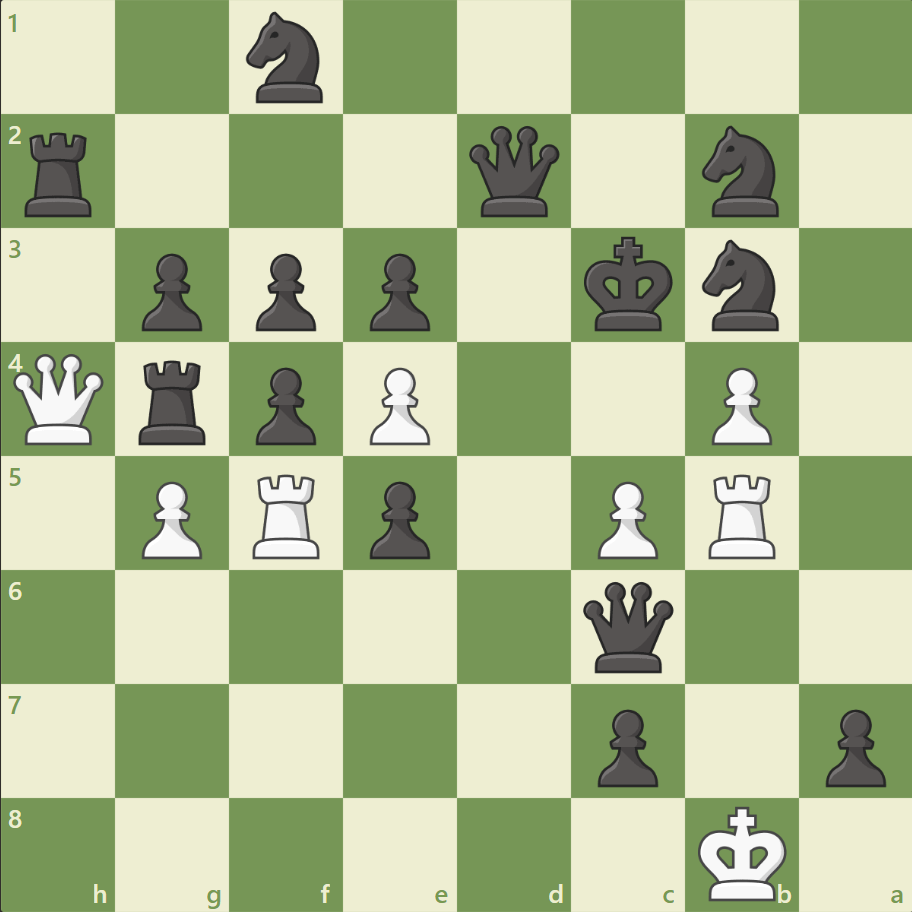K: (692, 798, 792, 906)
P: (133, 473, 208, 564), (701, 359, 776, 450), (588, 473, 662, 564), (361, 359, 435, 450)
Q: (10, 349, 109, 449)
R: (700, 466, 783, 563), (246, 466, 329, 563)
k: (579, 231, 679, 339)
n: (692, 234, 789, 337), (238, 7, 335, 110), (692, 121, 789, 223)
p: (247, 359, 322, 450), (247, 246, 322, 337), (133, 246, 208, 337), (815, 700, 889, 791), (588, 700, 662, 791), (361, 473, 435, 564), (361, 246, 435, 337)
q: (578, 576, 677, 676), (464, 122, 563, 222)
r: (19, 125, 102, 222), (133, 352, 215, 449)
